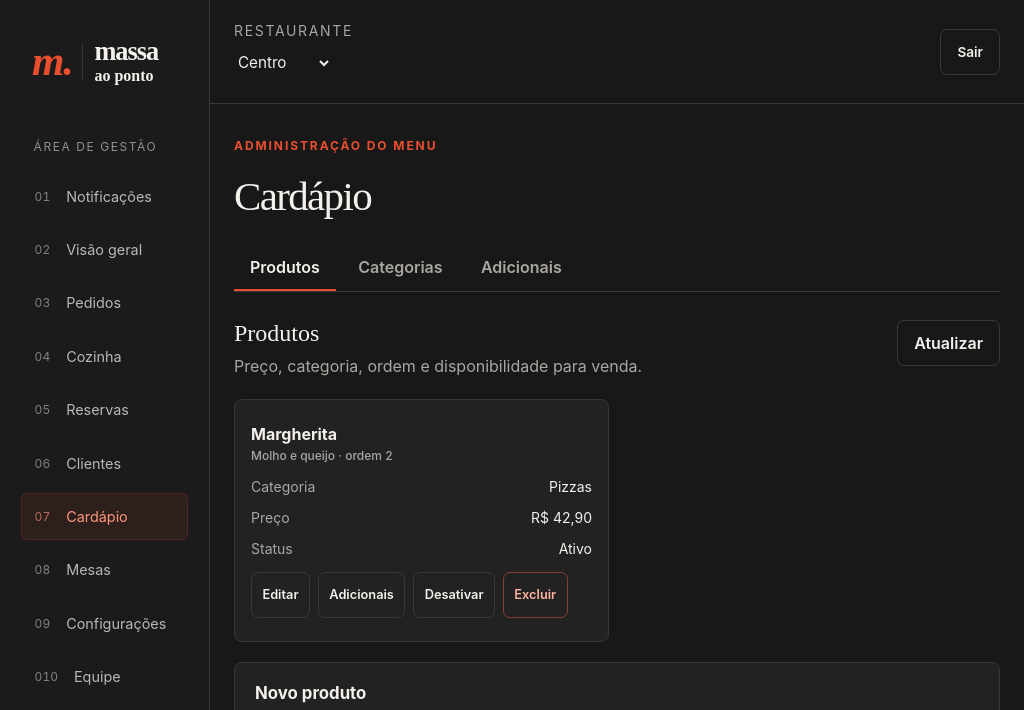
Test: Catalog UI › toggles category, product and addon status through their real routes
Expected: the text "Margherita" is shown, [251, 424, 337, 444]
Click the button "Desativar" at (454,595), box [413, 572, 495, 618]
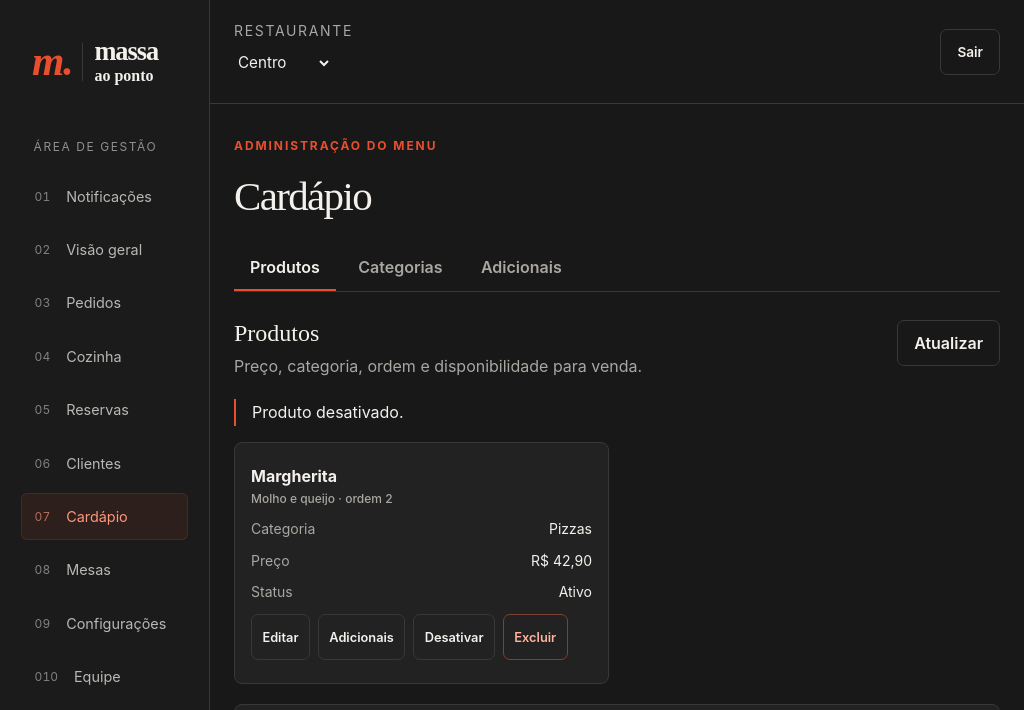
Expected: the text "Produto desativado." is shown, [234, 399, 1000, 426]
Click the button "Categorias" at (400,268), box [342, 244, 459, 291]
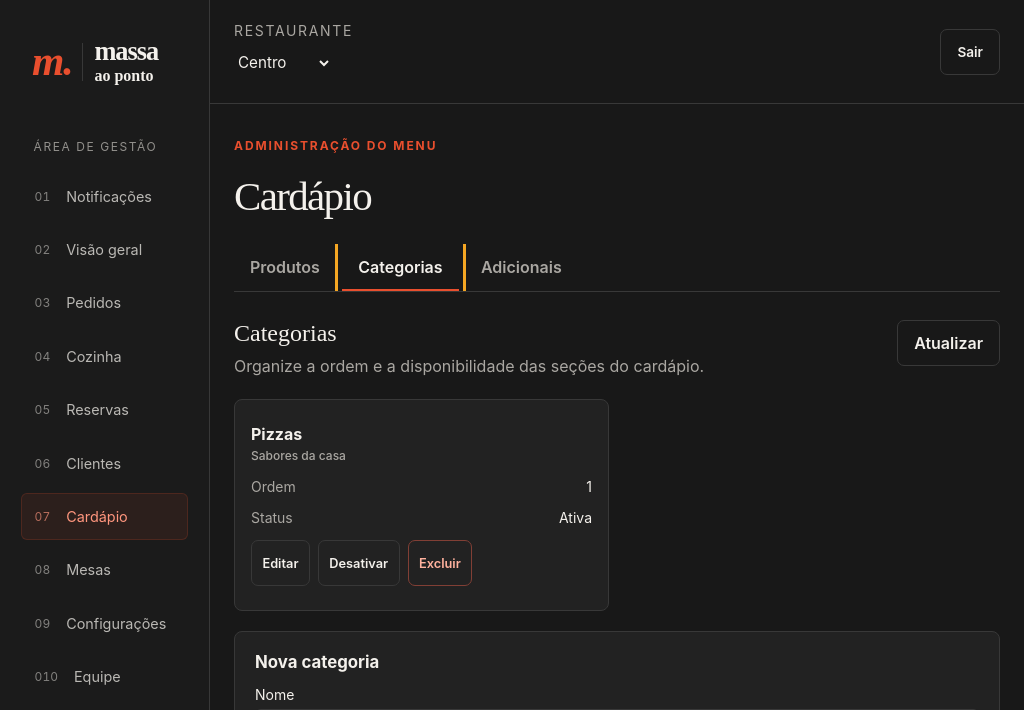
Expected: the text "Pizzas" is shown, [251, 424, 302, 444]
Click the button "Desativar" at (359,564), box [318, 540, 400, 586]
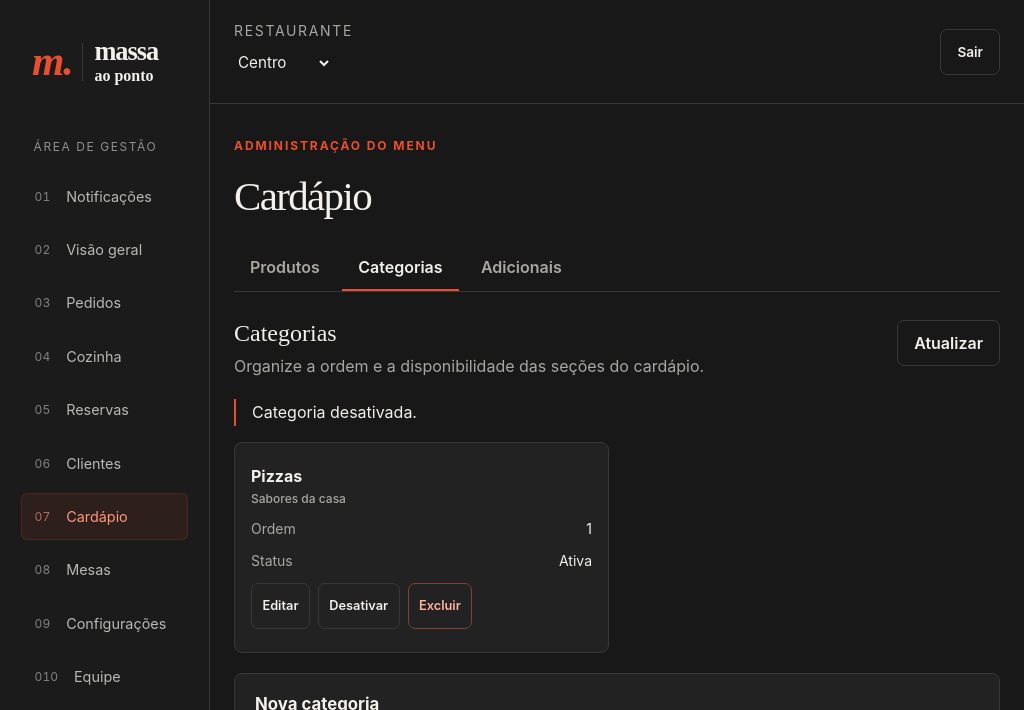
Expected: the text "Categoria desativada." is shown, [234, 399, 1000, 426]
Click the button "Adicionais" at (521,268), box [465, 244, 578, 291]
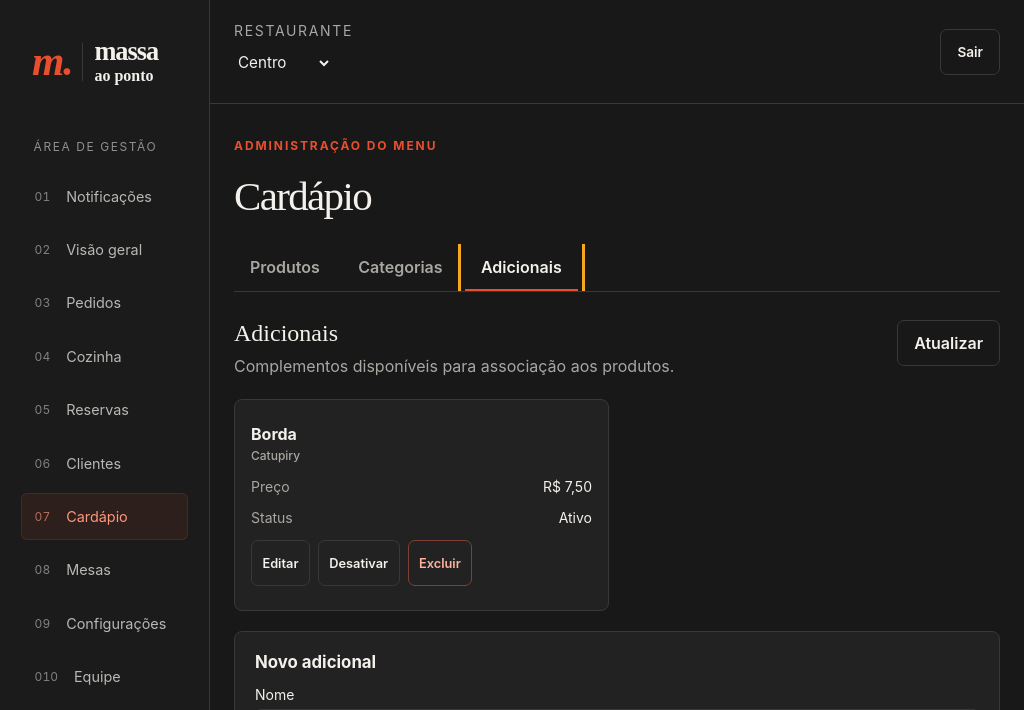
Expected: the text "Catupiry" is shown, [251, 448, 300, 463]
Click the button "Desativar" at (359,564), box [318, 540, 400, 586]
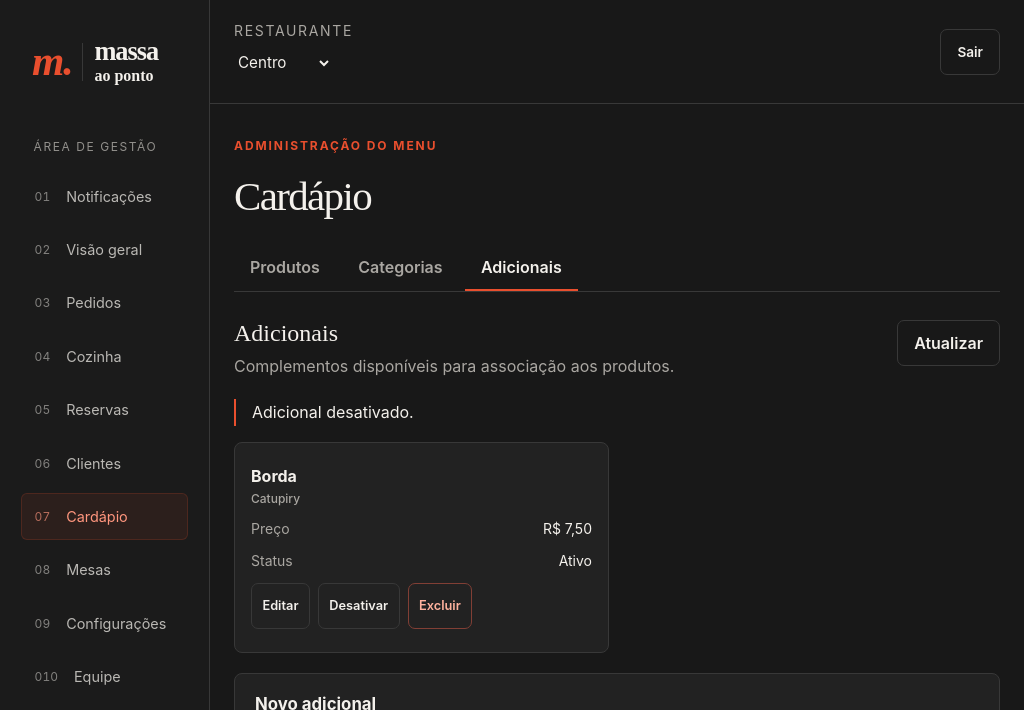
Expected: the text "Adicional desativado." is shown, [234, 399, 1000, 426]
